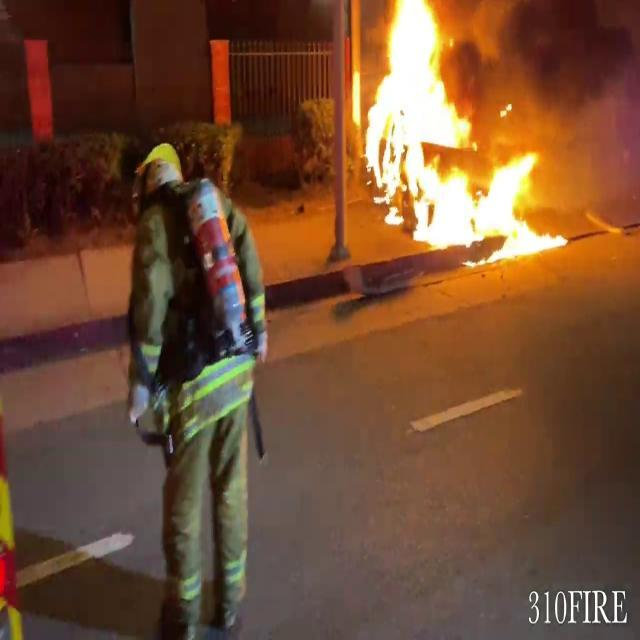Fire: (358, 0, 558, 256)
